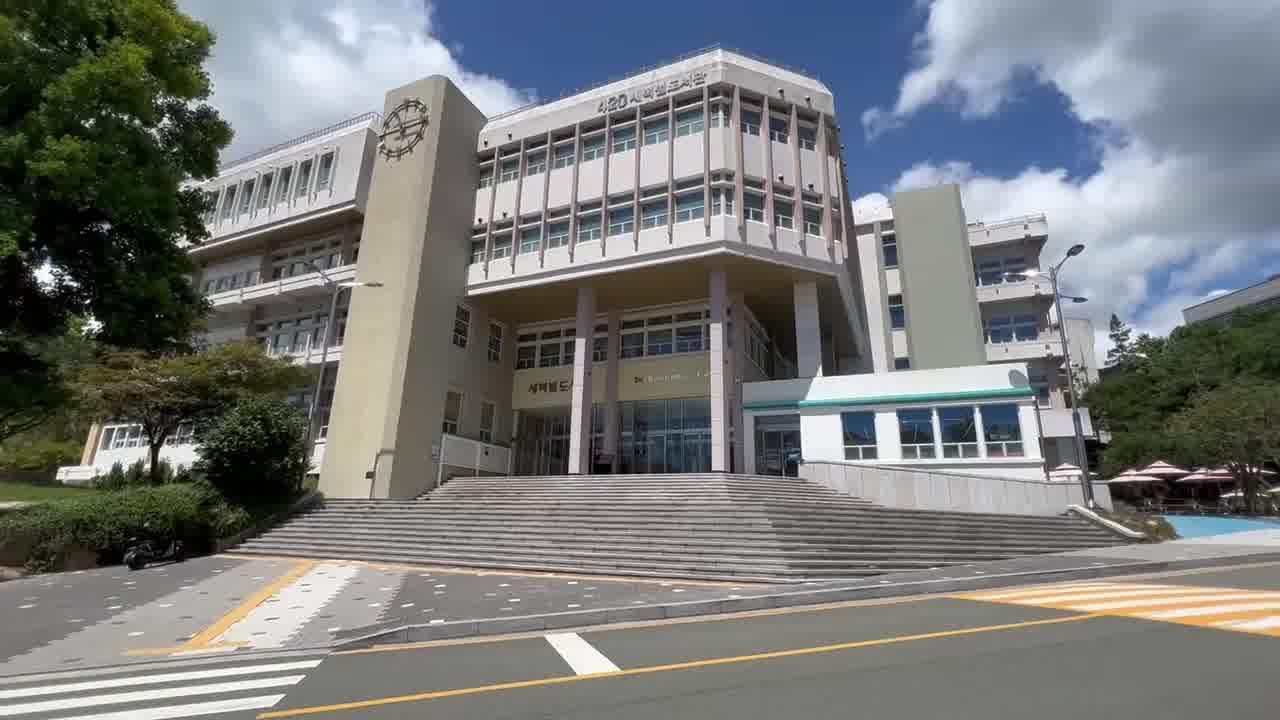building: (269, 50, 1049, 496)
